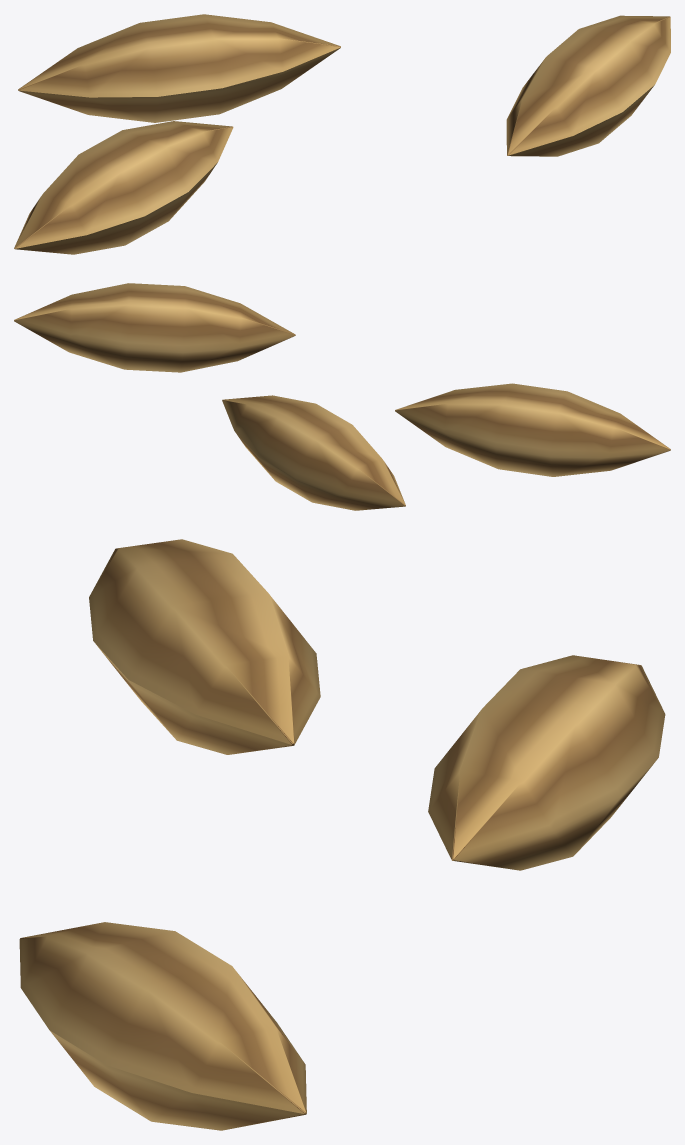
File: NP_Daisy_Seed_LOD1.fbx
3 views of the same model, one above another, from view 1: azimuth 30°, elevation 25°; view 2: azimuth 150°, elevation 25°; view 3: azimuth 270°, elevation 25° (orthographic). The views are drawn at different scales.
Parts seen in each view (by area): view 1: NP_Daisy_Seed_LOD1; view 2: NP_Daisy_Seed_LOD1; view 3: NP_Daisy_Seed_LOD1.
Part boxes in pixels (box(x1,y1,x2,y2)): NP_Daisy_Seed_LOD1: box(14, 14, 670, 254); NP_Daisy_Seed_LOD1: box(14, 283, 670, 510); NP_Daisy_Seed_LOD1: box(19, 539, 665, 1130).
Size of the model in its own units: 17.73 by 2.11 by 8.13.
